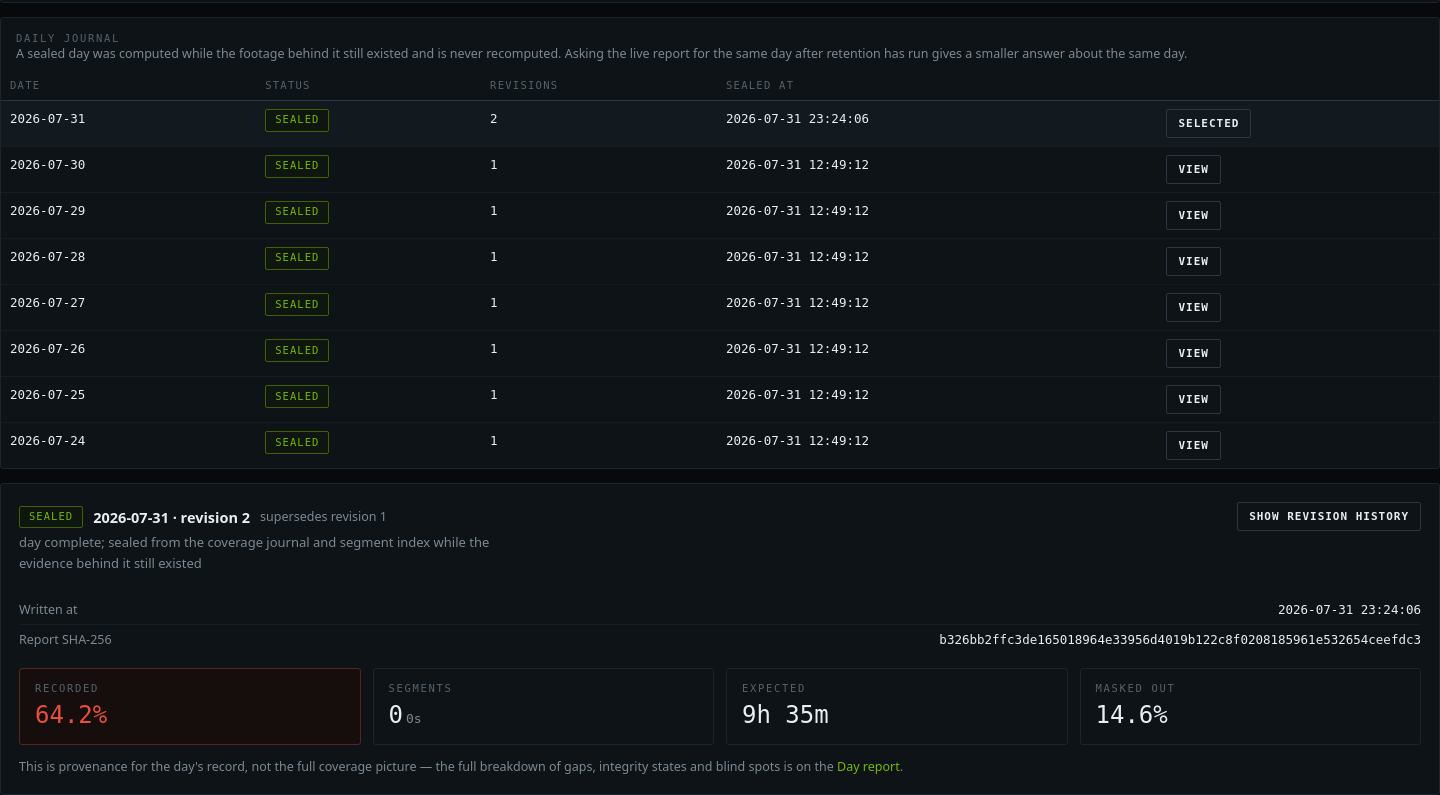
it: FootagePage — day detail and provenance › shows the full revision history, marking which one is current, only once asked for
(page scrolled)
expect the heading "sealed 2026-07-31 · revision 2 supersedes revision 1" is shown: met, box [19, 506, 387, 528]
Click the button "Show revision history".
click(1329, 517)  # box [1237, 502, 1421, 531]
(page scrolled)
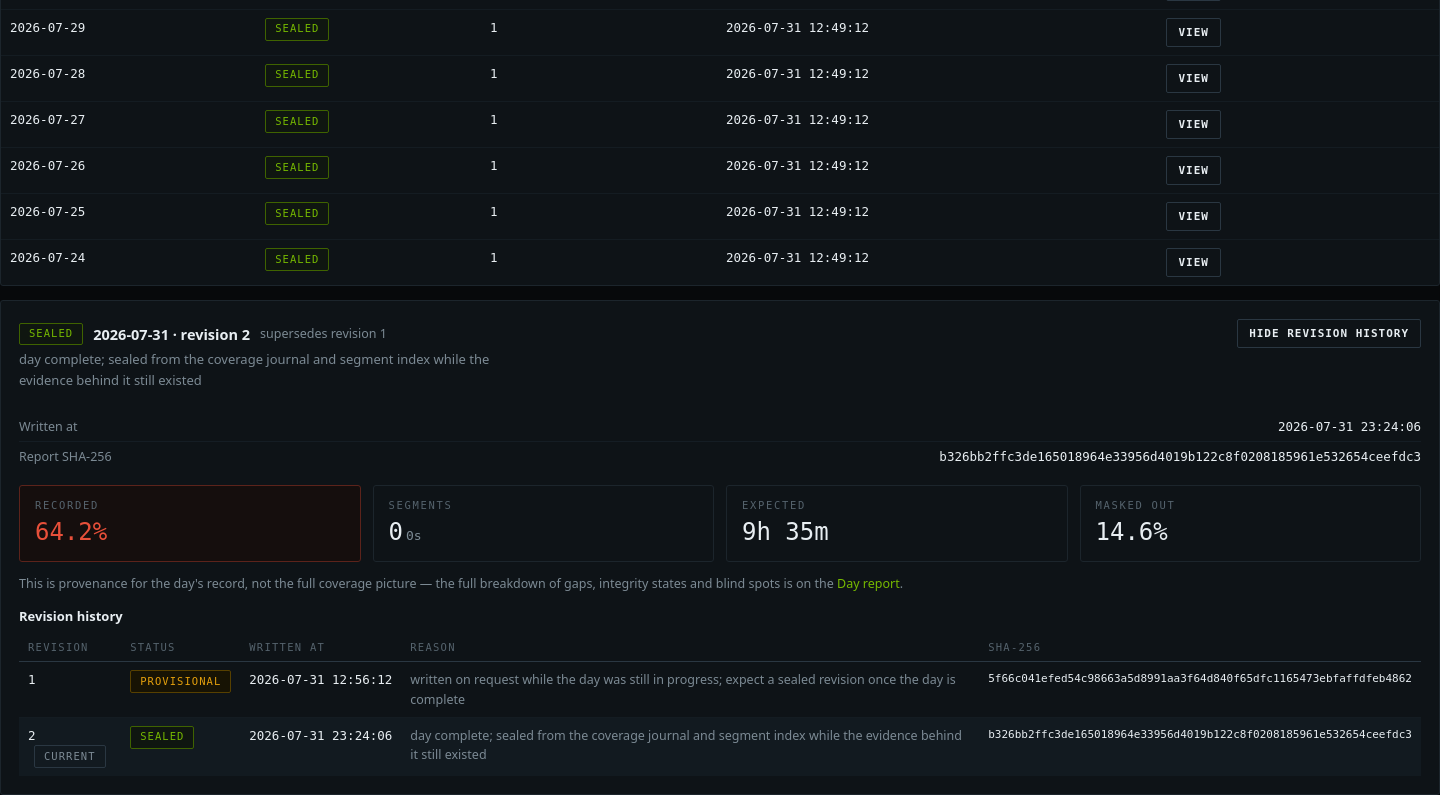
expect the text "sealed" below "2026-07-31 12:56:12" is shown: met, box [140, 730, 184, 742]
expect the text "provisional" is shown: met, box [130, 670, 231, 693]
expect the text "current" is shown: met, box [34, 745, 106, 768]
